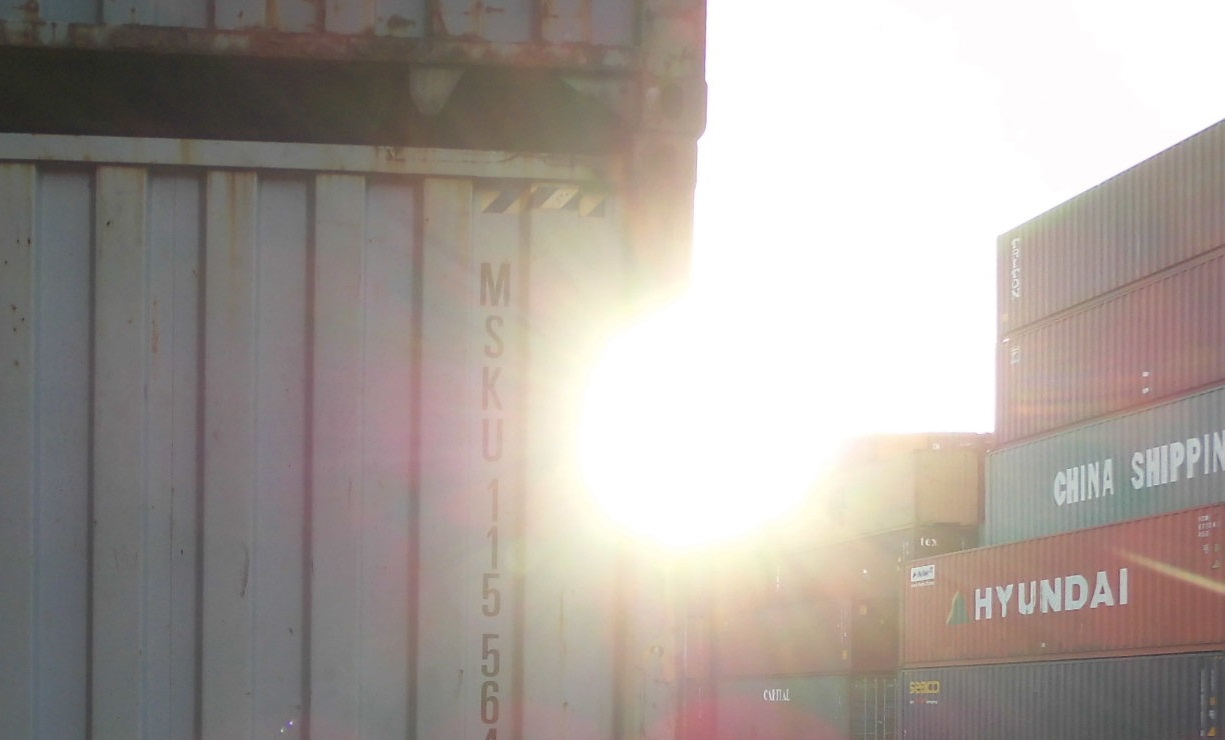container_no_door: (1, 128, 703, 733)
